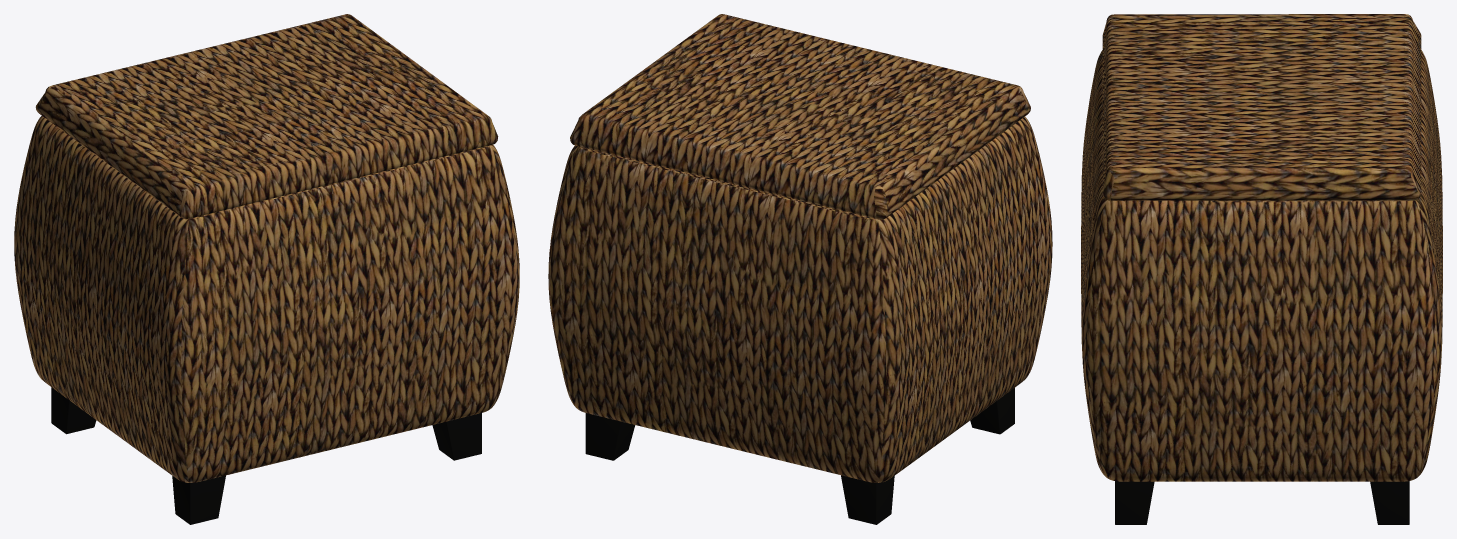
The model's file is BCMH4335.obj.
The picture shows the model from 3 angles, left to right: view 1: azimuth 30°, elevation 25°; view 2: azimuth 150°, elevation 25°; view 3: azimuth 270°, elevation 25°; orthographic projection. The views are drawn at different scales.
Visible parts, largest first — view 1: not_clear_obj_0_v6, not_clear_obj_1_v6; view 2: not_clear_obj_0_v6, not_clear_obj_1_v6; view 3: not_clear_obj_0_v6, not_clear_obj_1_v6.
Part boxes in pixels (left/top/right/bottom): not_clear_obj_0_v6: left=14, top=14, right=519, bottom=482; not_clear_obj_1_v6: left=51, top=387, right=481, bottom=524; not_clear_obj_0_v6: left=548, top=14, right=1052, bottom=482; not_clear_obj_1_v6: left=585, top=388, right=1014, bottom=524; not_clear_obj_0_v6: left=1081, top=14, right=1442, bottom=481; not_clear_obj_1_v6: left=1115, top=481, right=1409, bottom=524.
Size of what is drawn, in the model's own units: 45.72 by 41.91 by 38.25.
